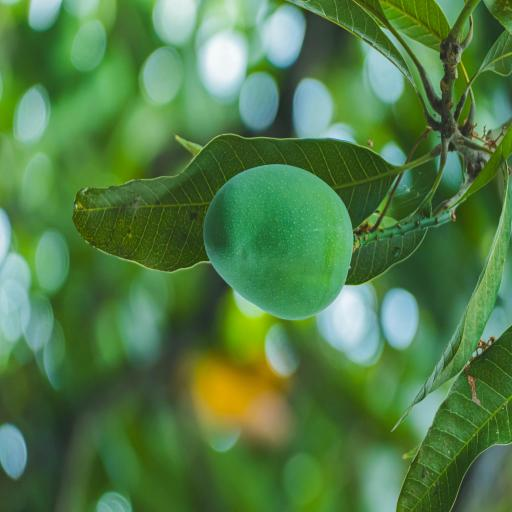Mango-Detection: (150, 114, 426, 373)
